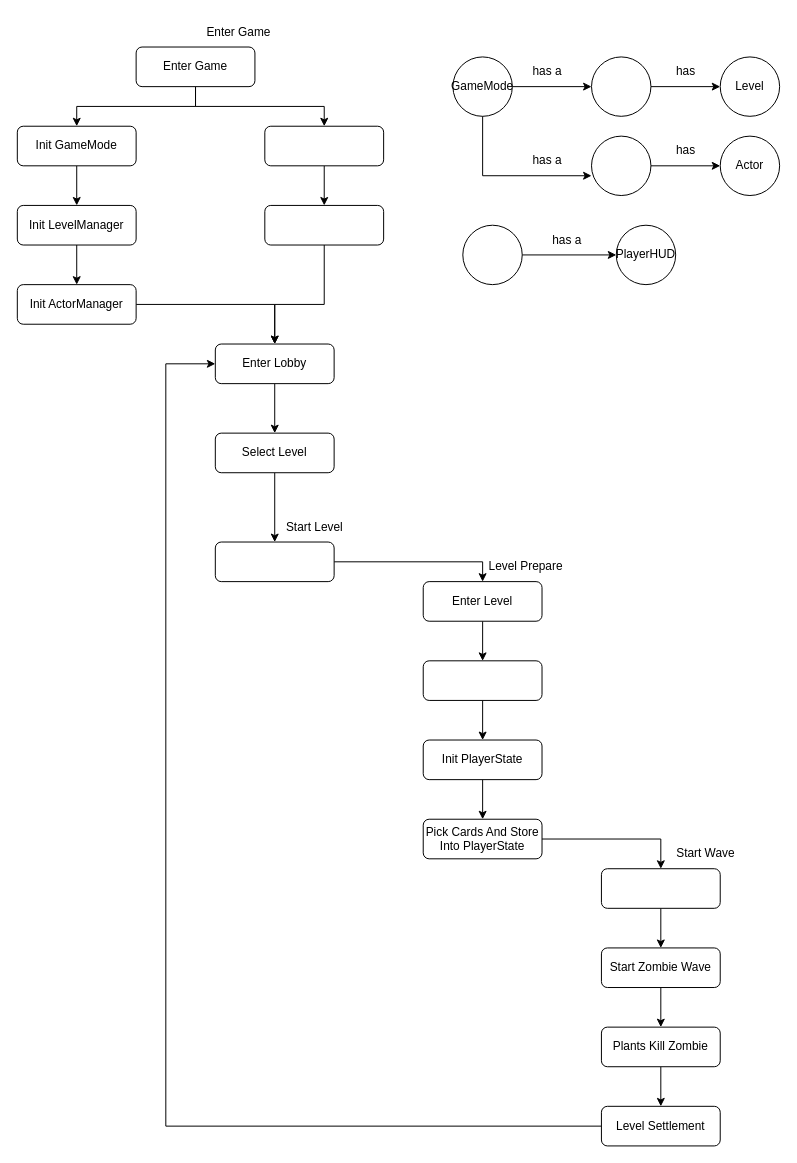
Some shapes in this 797 by 1163 pixel diagram are drawn without their labels. Each missing label, with the centre of its shape:
Actor Manager: point (621, 165)
Character Control Plants: point (660, 888)
Init PlayerCharacter: point (482, 680)
Init PlayerController: point (324, 145)
Init PlayerHUD: point (324, 224)
Level Manager: point (621, 86)
Load Level: point (274, 561)
Player Controller: point (492, 254)
